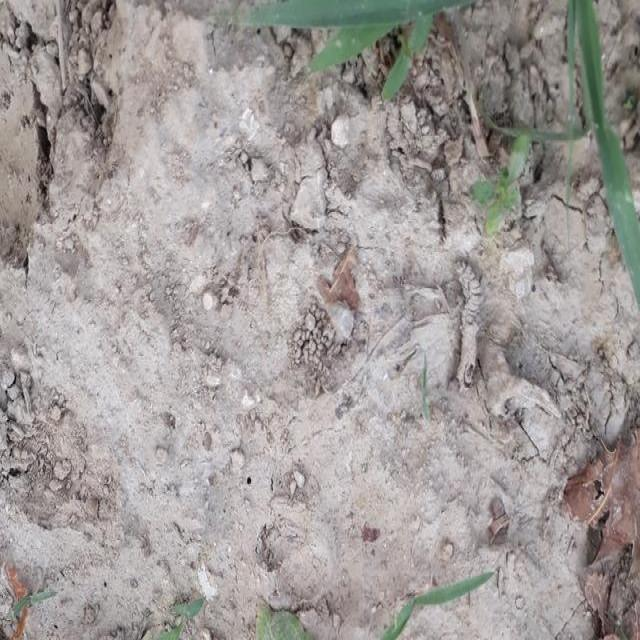weed: (576, 9, 640, 288), (244, 1, 500, 65), (468, 139, 548, 241), (391, 570, 498, 640)
